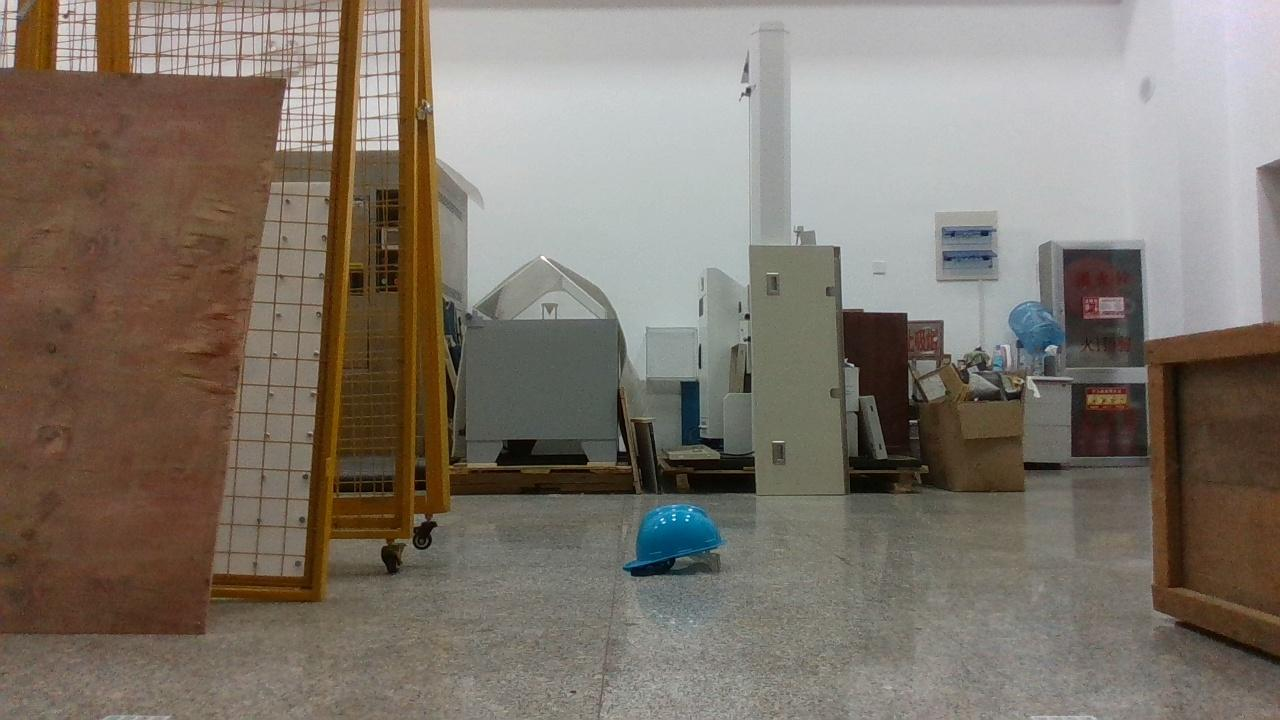safehat: (622, 505, 725, 578)
